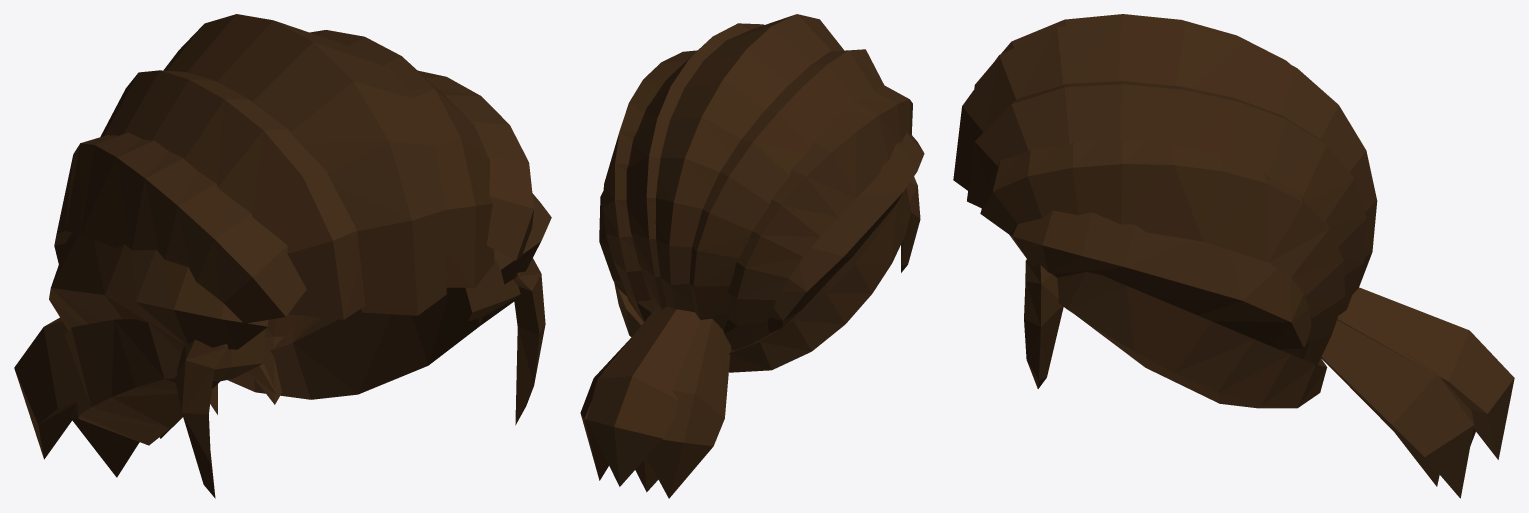
Rendered from hair-ponytail.high.dfde043e.glb.
3 renders of one model, left to right at view 1: azimuth 30°, elevation 25°; view 2: azimuth 150°, elevation 25°; view 3: azimuth 270°, elevation 25°, orthographic. The views are drawn at different scales.
Visible parts, largest first — view 1: hair-ponytail; view 2: hair-ponytail; view 3: hair-ponytail.
Part boxes in pixels (x1,y1,x2,y2): hair-ponytail: [14, 14, 551, 498]; hair-ponytail: [580, 14, 924, 498]; hair-ponytail: [953, 14, 1514, 498].
Bounding box in the file's own units: 0.2247 × 0.2999 × 0.3253.
